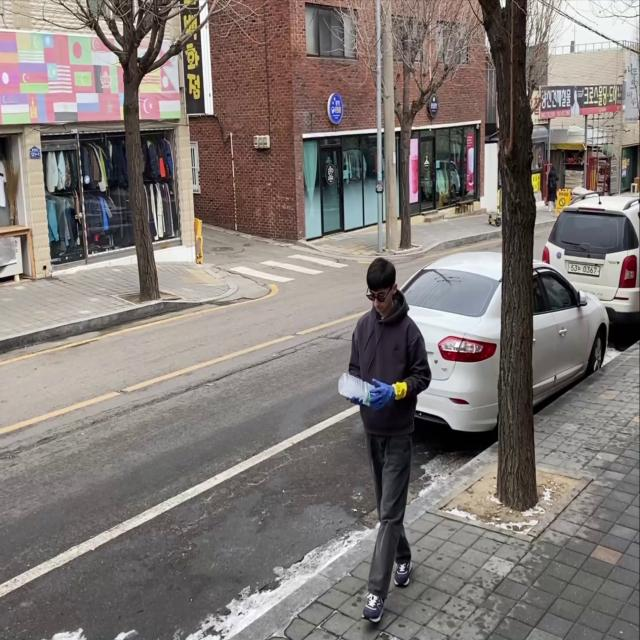gloved_hand: (366, 376, 396, 416), (347, 391, 364, 410)
